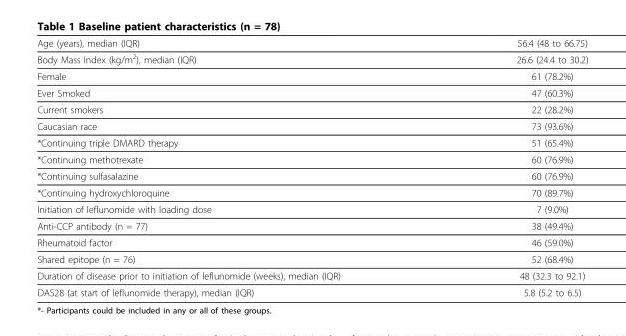table: (36, 37, 587, 297)
table column: (36, 37, 427, 297), (427, 37, 587, 297)
table column header: (36, 37, 587, 50)
table row: (36, 50, 587, 67), (36, 67, 587, 84), (36, 100, 587, 117), (36, 117, 587, 134), (36, 150, 587, 167), (36, 183, 587, 200), (36, 200, 587, 217), (36, 233, 587, 250), (36, 250, 587, 267), (36, 84, 587, 100), (36, 134, 587, 150), (36, 167, 587, 183), (36, 217, 587, 233), (36, 267, 587, 283), (36, 283, 587, 297), (36, 37, 587, 50)
